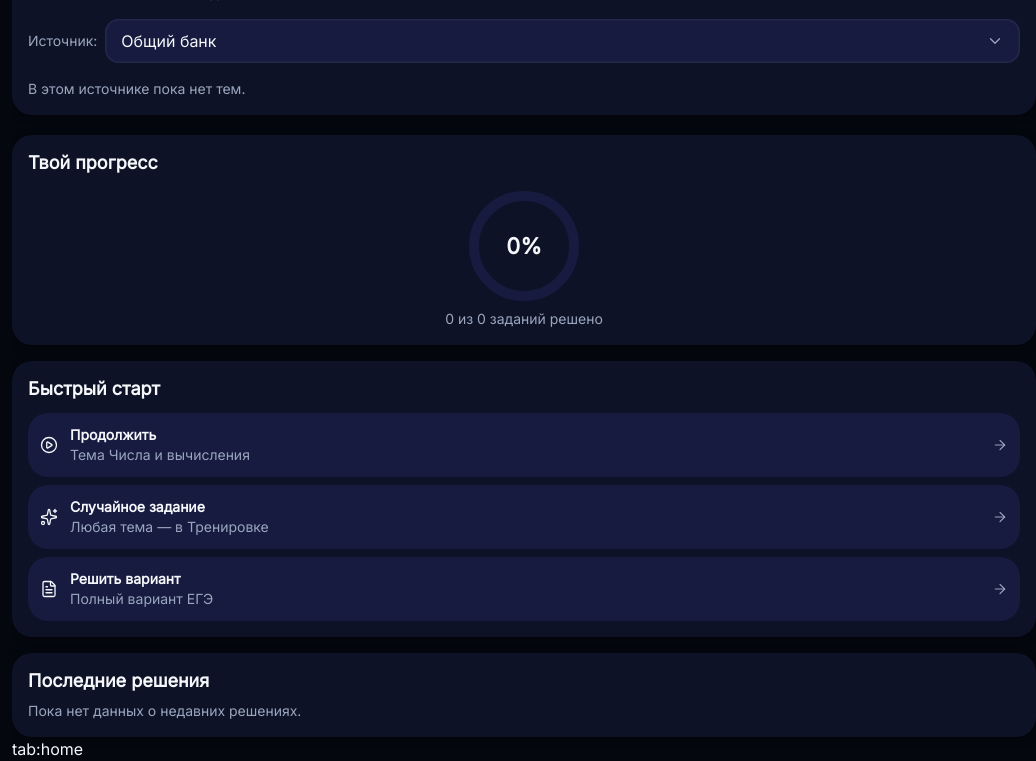
SubjectDesktop — "Случайные задания" mode removed (now lives in Training) › "Быстрый старт" → "Случайное задание" now navigates to Training instead of a removed mode
(page scrolled)
Click the text "Случайное задание" at (137, 506), box [70, 498, 205, 515]
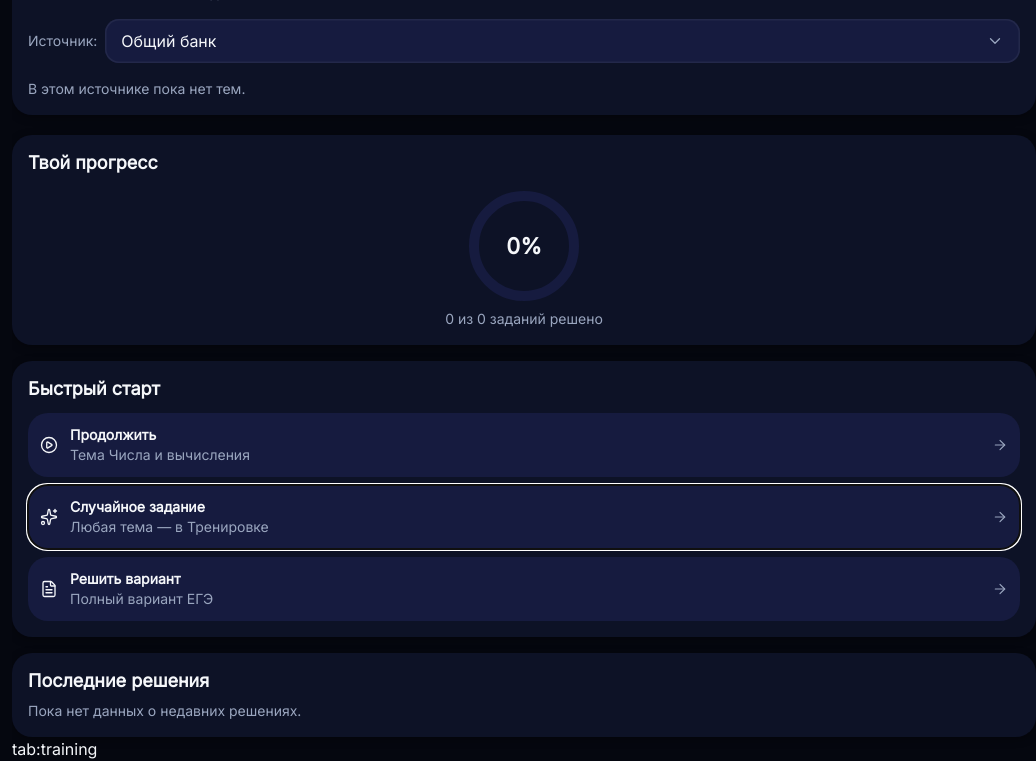
Now the text with test id "overlay" shows "training", box [12, 739, 97, 759]
